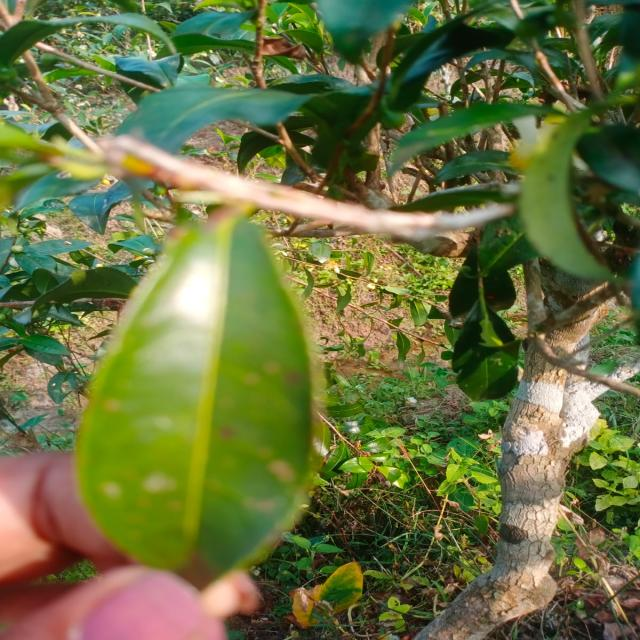Category D(7+ days, Not for Tea): (53, 200, 383, 610)
